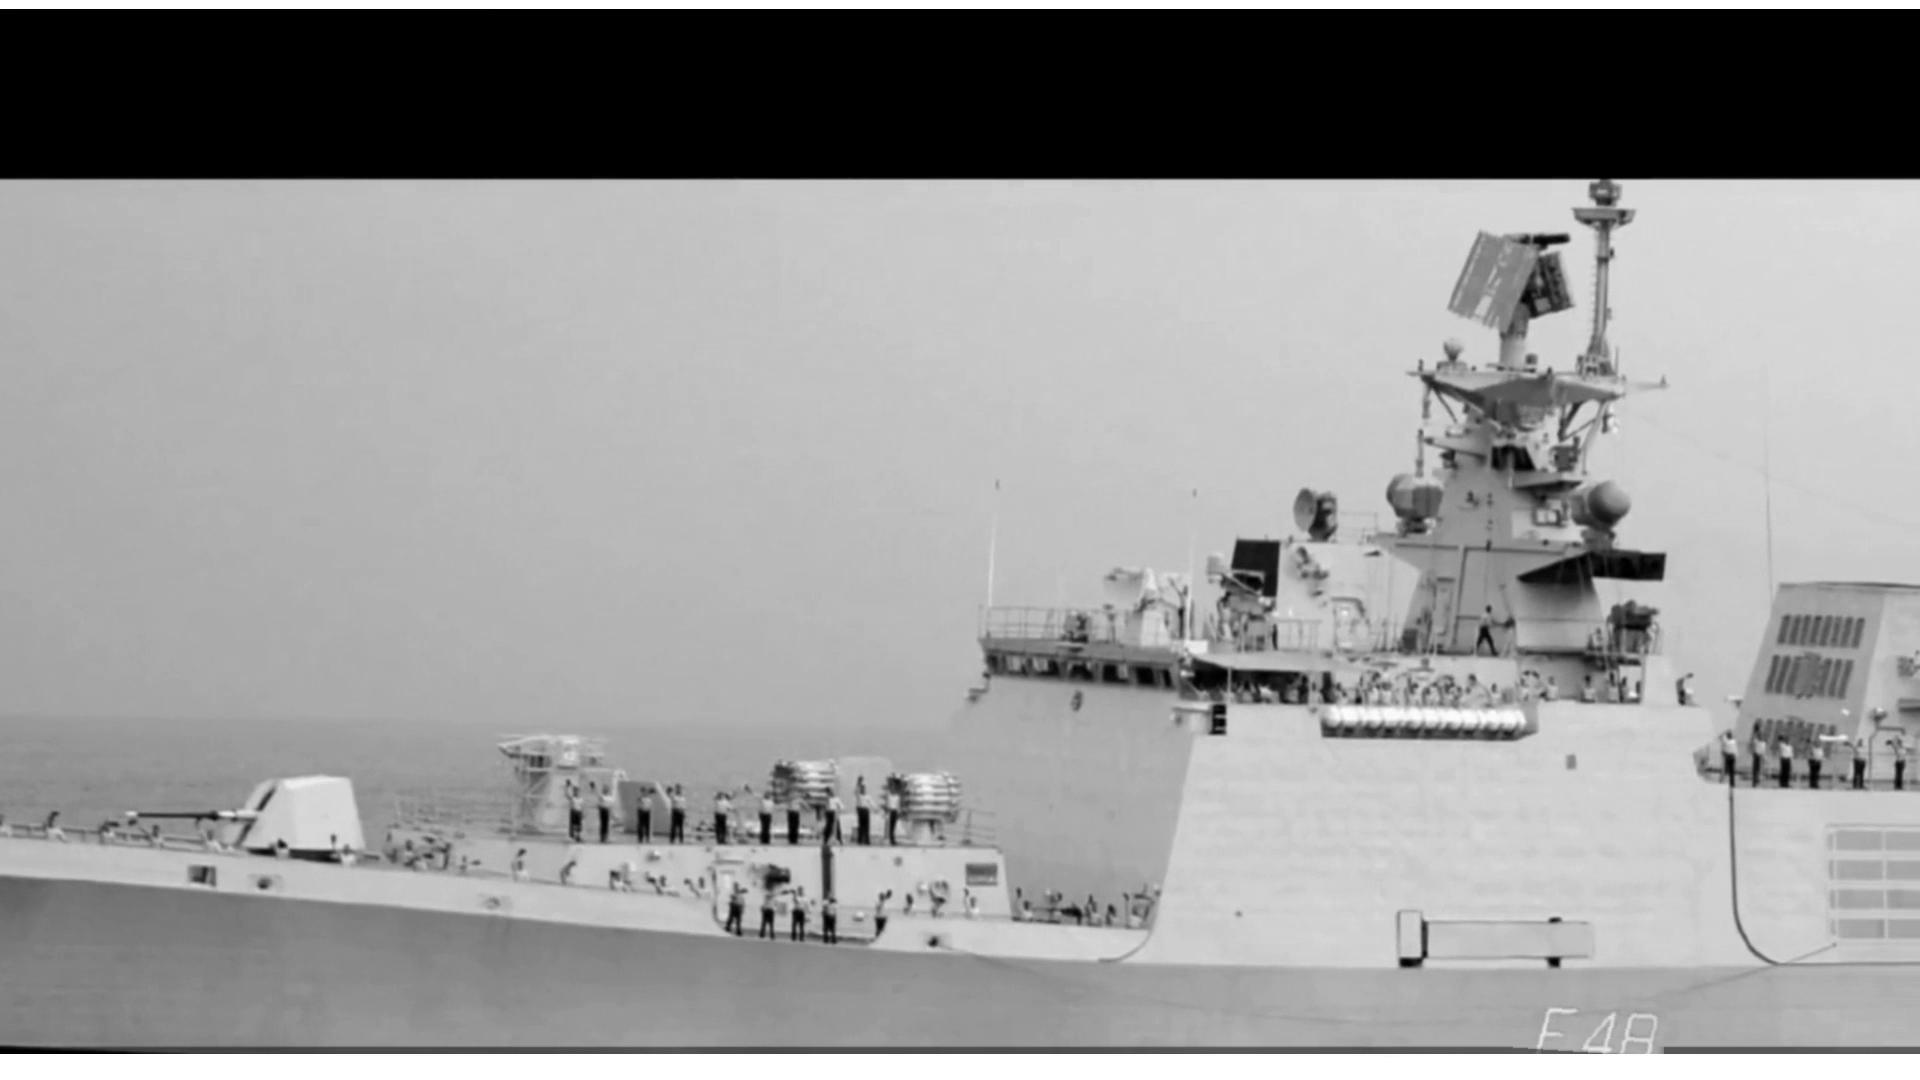OCR: (1510, 993, 1668, 1055)
